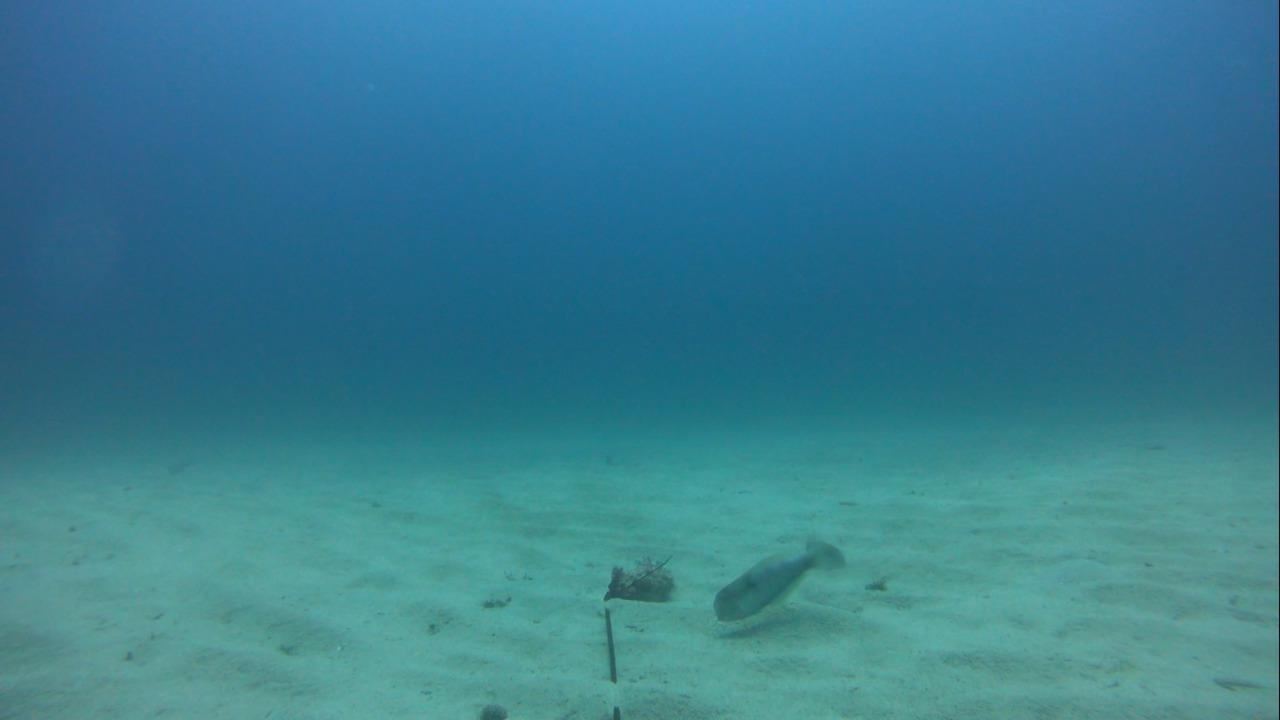raor: (711, 547, 817, 627), (799, 525, 855, 573)
